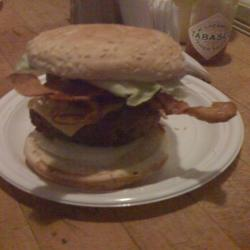burger: (6, 25, 193, 197)
